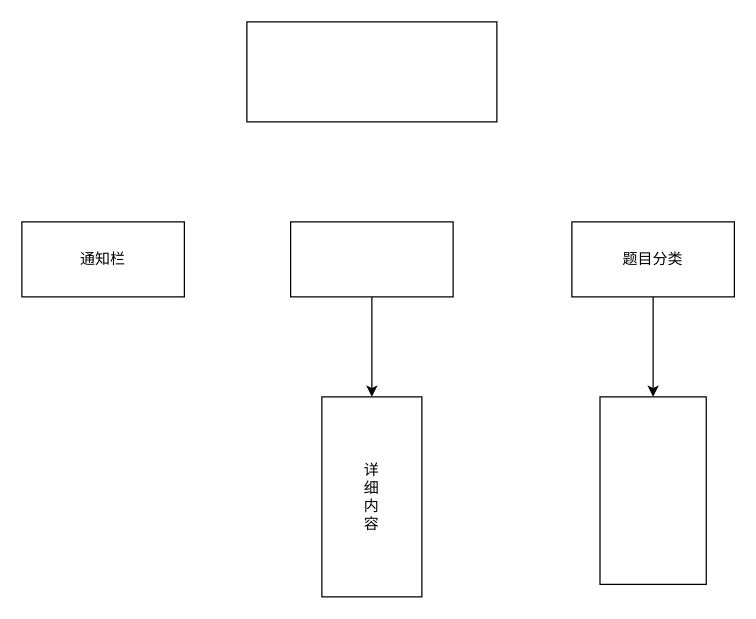
Image size: 756x619. Some labels were removed from this diagram. The centre of each missing label's shape, as x and y in pixels:
小程序首页: [371,71]
轮播图: [371,259]
